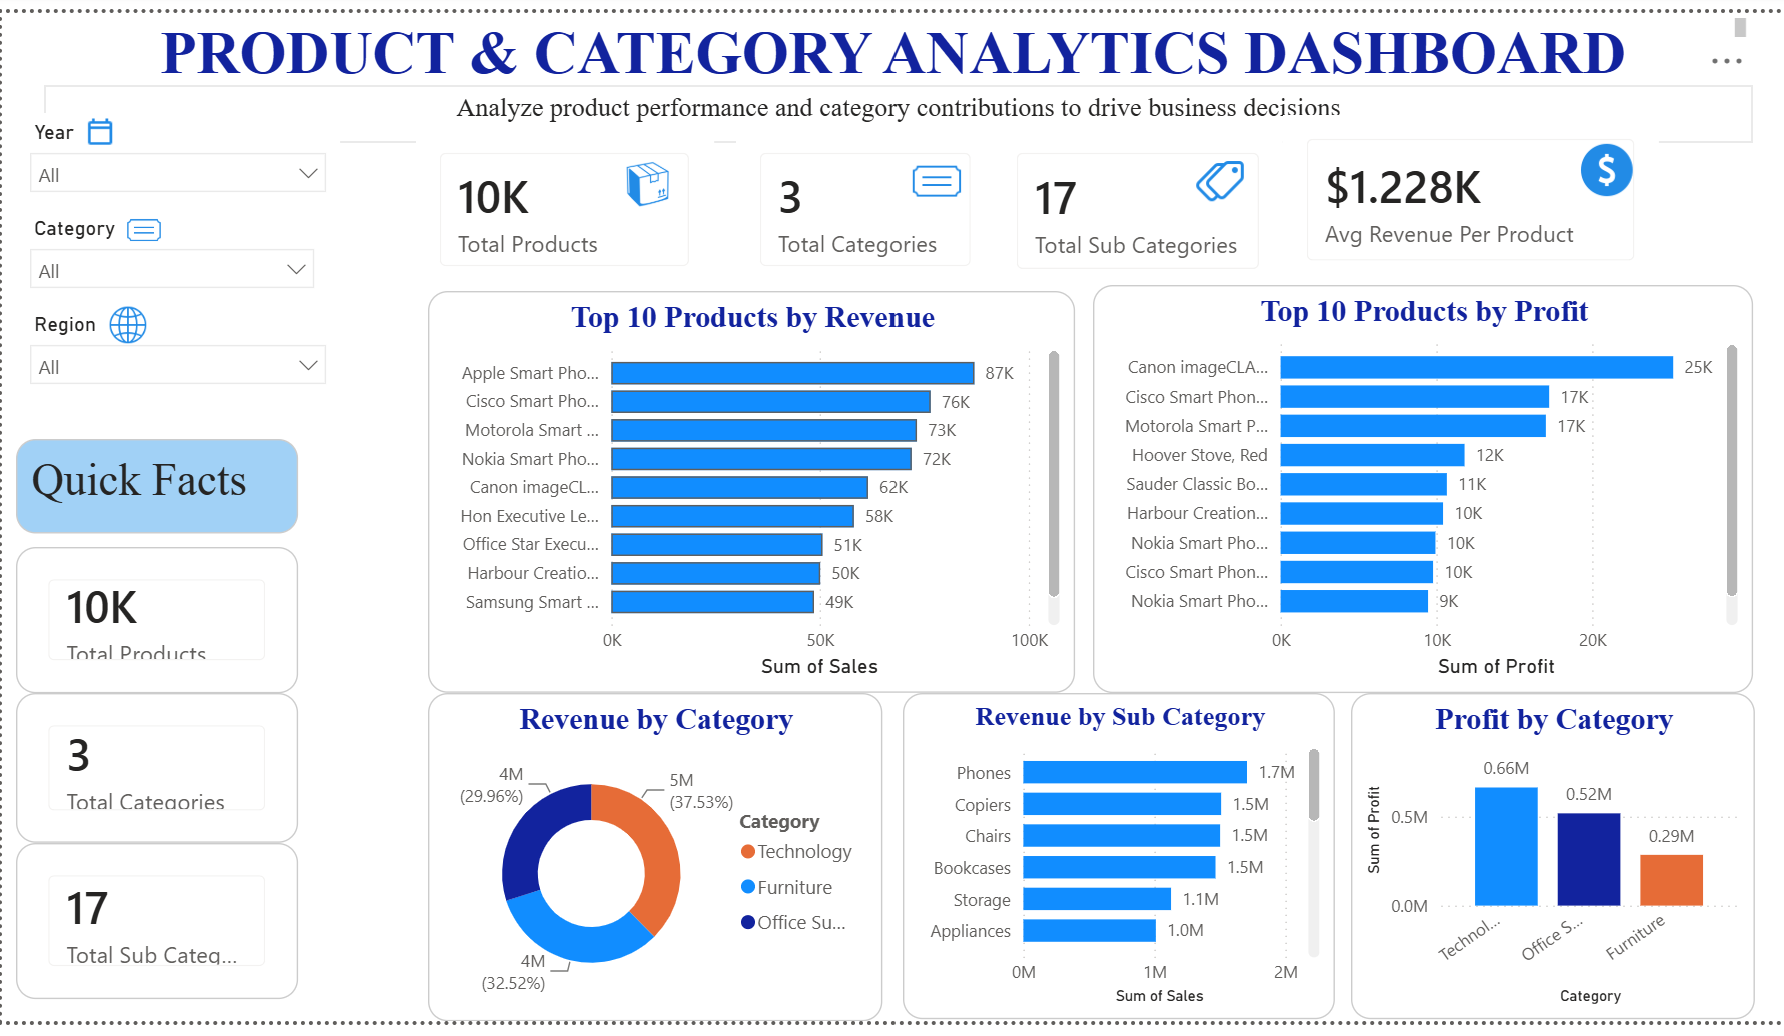

The page's visual inventory and layout, read from the dashboard file:
{"tool":"powerbi","page":{"name":"PRODUCT ANALYTICS","canvas":[1280,720],"ordinal":2},"visuals":[{"type":"textbox","box":[30,0,1220,52.9],"z":0},{"type":"cardVisual","fields":{"Data":["superstore.Avg Revenue Per Product"]},"box":[914.3,74.3,268.6,121.4],"z":0,"group":"g4"},{"type":"cardVisual","fields":{"Data":["superstore.Total Sub Categories"]},"box":[707.1,84.3,207.1,117.1],"z":0,"group":"g3"},{"type":"shape","box":[0,310.7,222.9,397.8],"z":0,"group":"g6"},{"type":"textbox","box":[30,52.9,1220,41.4],"z":1000},{"type":"image","box":[1122.9,88.8,45.7,50],"z":1000,"group":"g4"},{"type":"image","box":[844.4,104.5,50,34.3],"z":1000,"group":"g3"},{"type":"textbox","box":[10,305.7,201.4,67.5],"z":1000,"group":"g6"},{"type":"cardVisual","fields":{"Data":["superstore.Total Products"]},"box":[295.7,84.3,212.9,115.7],"z":1001,"group":"g1"},{"type":"cardVisual","fields":{"Data":["superstore.Total Categories"]},"box":[524.3,84.3,184.3,115.7],"z":1002,"group":"g2"},{"type":"image","box":[431.4,104.3,58.6,38.6],"z":1007,"group":"g1"},{"type":"image","box":[642.9,104.3,48.6,34.3],"z":1008,"group":"g2"},{"type":"group","id":"g1","title":"Group 1","box":[295.7,84.3,212.9,115.7],"z":2000},{"type":"group","id":"g2","title":"Group 2","box":[524.3,84.3,184.3,115.7],"z":3000},{"type":"group","id":"g3","title":"Group 3","box":[707.1,84.3,207.1,117.1],"z":4000},{"type":"group","id":"g4","title":"Group 4","box":[914.3,74.3,268.6,121.4],"z":5000},{"type":"clusteredBarChart","title":"Top 10 Products by Revenue","fields":{"Category":["superstore.Product Name"],"Y":["Sum(superstore.Sales)"]},"box":[304.3,200,461.4,287.1],"z":6000},{"type":"clusteredBarChart","title":"Top 10 Products by Profit","fields":{"Category":["superstore.Product Name"],"Y":["Sum(superstore.Profit)"]},"box":[778.6,195.7,471.4,291.4],"z":7000},{"type":"donutChart","title":"Revenue by Category","fields":{"Category":["superstore.Category"],"Y":["Sum(superstore.Sales)"]},"box":[304.3,487.1,324.3,234.3],"z":8000},{"type":"clusteredBarChart","title":"Revenue by Sub Category","fields":{"Category":["superstore.Sub Category"],"Y":["Sum(superstore.Sales)"]},"box":[642.9,487.1,308.6,232.9],"z":9000},{"type":"clusteredColumnChart","title":"Profit by Category","fields":{"Category":["superstore.Category"],"Y":["Sum(superstore.Profit)"]},"box":[962.9,487.1,288.6,232.9],"z":10000},{"type":"slicer","fields":{"Values":["superstore.Year"]},"box":[10,72.9,231.4,68.6],"z":11000},{"type":"image","box":[58.6,72.9,22.9,28.6],"z":12000},{"type":"image","box":[90.3,140,51.7,19.6],"z":13000,"group":"g5"},{"type":"slicer","fields":{"Values":["superstore.Region"]},"box":[10,210,231.4,74.3],"z":13000},{"type":"group","id":"g5","title":"Group 5","box":[10,140,222.9,61.4],"z":14000},{"type":"slicer","fields":{"Values":["superstore.Category"]},"box":[10,140.8,222.9,60.6],"z":14000,"group":"g5"},{"type":"image","box":[81.4,144.3,40,24.3],"z":15000},{"type":"image","box":[75.7,210,28.6,28.6],"z":16000},{"type":"group","id":"g6","title":"Group 6","box":[0,305.7,222.9,402.9],"z":17000},{"type":"cardVisual","fields":{"Data":["superstore.Total Products"]},"box":[10,382.9,201.4,104.3],"z":18000},{"type":"cardVisual","fields":{"Data":["superstore.Total Categories"]},"box":[10,487.1,201.4,107.1],"z":19000},{"type":"cardVisual","fields":{"Data":["superstore.Total Sub Categories"]},"box":[10,594.3,201.4,111.4],"z":20000}]}

Visuals, with their boxes on the page's 1280x720 design canvas (x1, y1, x2, y2). These are canvas units, not pixel positions in the 1784x1036 screenshot, which may show the page scaled, cropped or inside an application window:
textbox: pyautogui.locateOnScreen(30, 0, 1250, 53)
cardVisual - superstore.Avg Revenue Per Product: pyautogui.locateOnScreen(914, 74, 1183, 196)
cardVisual - superstore.Total Sub Categories: pyautogui.locateOnScreen(707, 84, 914, 201)
shape: pyautogui.locateOnScreen(0, 311, 223, 708)
textbox: pyautogui.locateOnScreen(30, 53, 1250, 94)
image: pyautogui.locateOnScreen(1123, 89, 1169, 139)
image: pyautogui.locateOnScreen(844, 104, 894, 139)
textbox: pyautogui.locateOnScreen(10, 306, 211, 373)
cardVisual - superstore.Total Products: pyautogui.locateOnScreen(296, 84, 509, 200)
cardVisual - superstore.Total Categories: pyautogui.locateOnScreen(524, 84, 709, 200)
image: pyautogui.locateOnScreen(431, 104, 490, 143)
image: pyautogui.locateOnScreen(643, 104, 692, 139)
"Group 1" group: pyautogui.locateOnScreen(296, 84, 509, 200)
"Group 2" group: pyautogui.locateOnScreen(524, 84, 709, 200)
"Group 3" group: pyautogui.locateOnScreen(707, 84, 914, 201)
"Group 4" group: pyautogui.locateOnScreen(914, 74, 1183, 196)
"Top 10 Products by Revenue" clusteredBarChart: pyautogui.locateOnScreen(304, 200, 766, 487)
"Top 10 Products by Profit" clusteredBarChart: pyautogui.locateOnScreen(779, 196, 1250, 487)
"Revenue by Category" donutChart: pyautogui.locateOnScreen(304, 487, 629, 721)
"Revenue by Sub Category" clusteredBarChart: pyautogui.locateOnScreen(643, 487, 952, 720)
"Profit by Category" clusteredColumnChart: pyautogui.locateOnScreen(963, 487, 1252, 720)
slicer - superstore.Year: pyautogui.locateOnScreen(10, 73, 241, 142)
image: pyautogui.locateOnScreen(59, 73, 82, 102)
image: pyautogui.locateOnScreen(90, 140, 142, 160)
slicer - superstore.Region: pyautogui.locateOnScreen(10, 210, 241, 284)
"Group 5" group: pyautogui.locateOnScreen(10, 140, 233, 201)
slicer - superstore.Category: pyautogui.locateOnScreen(10, 141, 233, 201)
image: pyautogui.locateOnScreen(81, 144, 121, 169)
image: pyautogui.locateOnScreen(76, 210, 104, 239)
"Group 6" group: pyautogui.locateOnScreen(0, 306, 223, 709)
cardVisual - superstore.Total Products: pyautogui.locateOnScreen(10, 383, 211, 487)
cardVisual - superstore.Total Categories: pyautogui.locateOnScreen(10, 487, 211, 594)
cardVisual - superstore.Total Sub Categories: pyautogui.locateOnScreen(10, 594, 211, 706)
